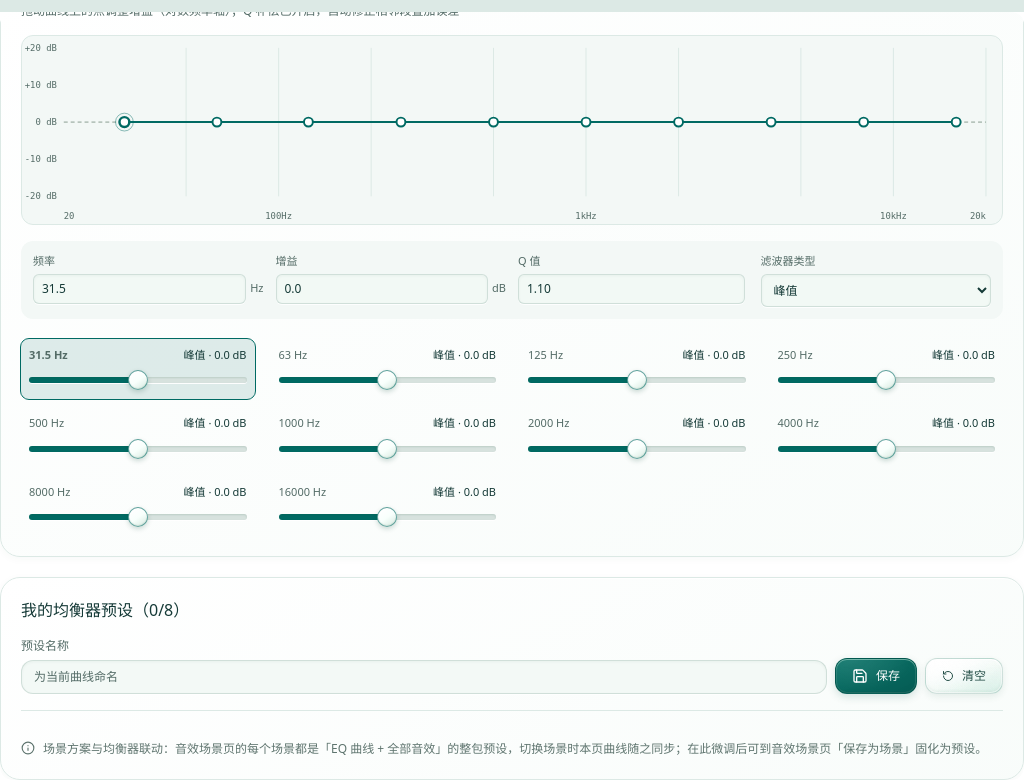
Scenario: HSE 均衡器编辑 › 陷波类型禁用无效增益控件，清空后恢复平直峰值段
(page scrolled)
Step 1. Select "陷波" in the dropdown labelled "滤波器类型" → (876, 290), box [760, 274, 991, 306]
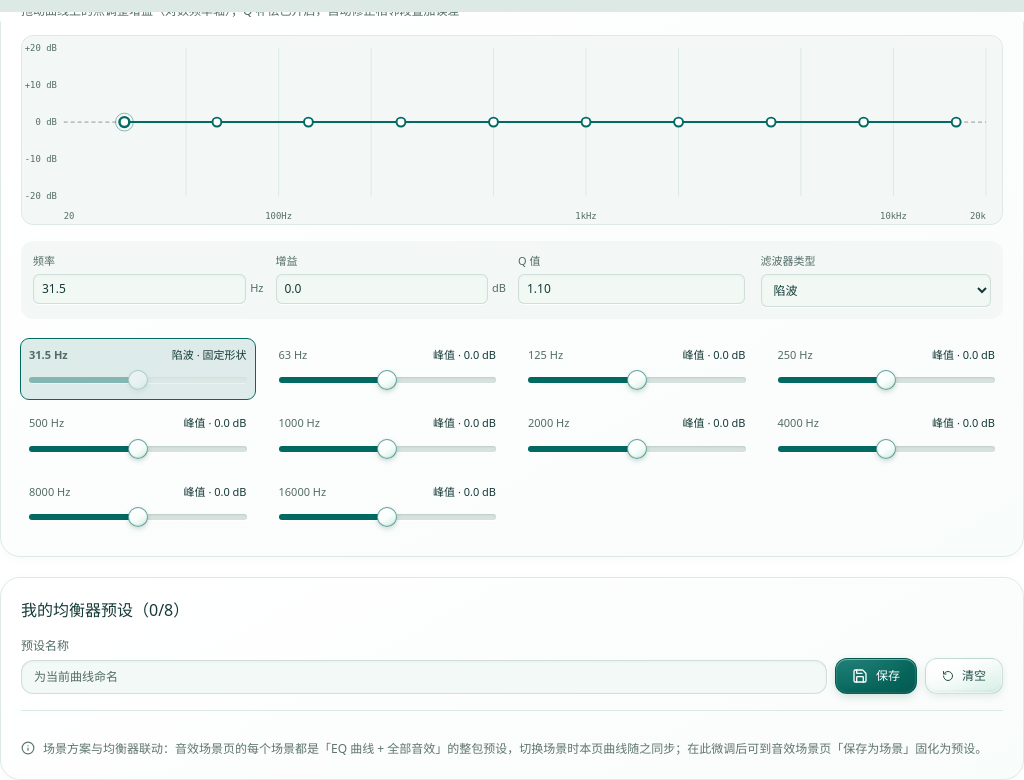
expect the number field labelled "增益 dB" is disabled: met, box [276, 274, 488, 304]
expect the slider named "31.5 Hz 增益" is disabled: met, box [29, 377, 246, 383]
Step 2. Click the button "清空" → click(964, 676), box [925, 658, 1003, 694]
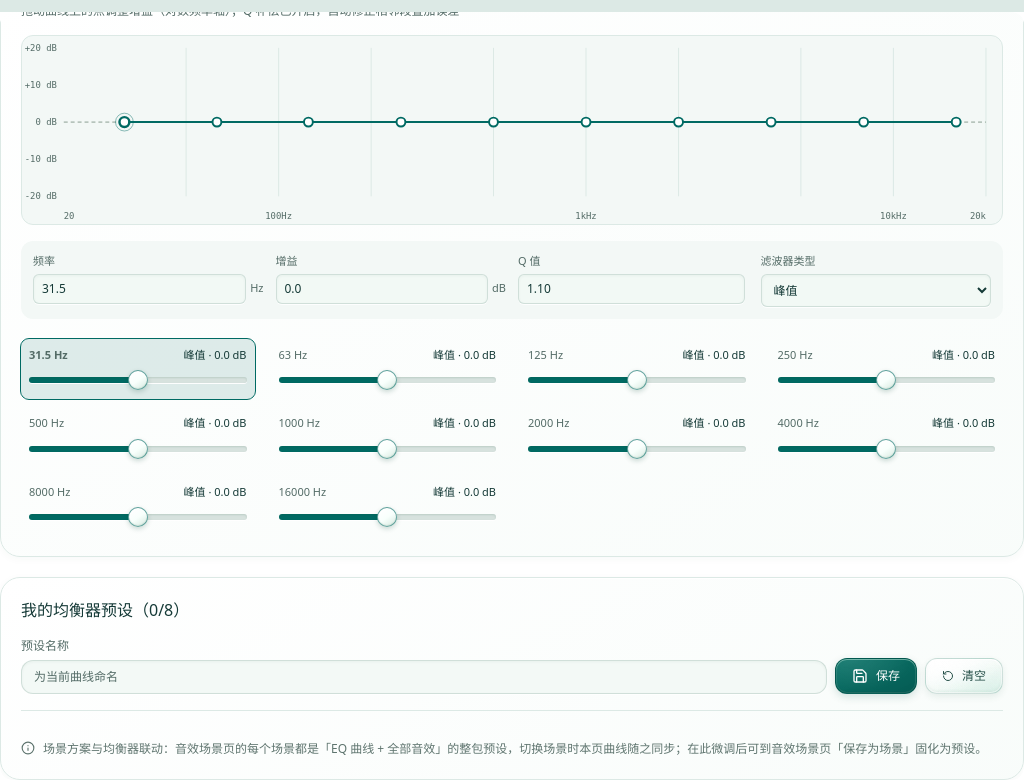
expect the slider named "31.5 Hz 增益" is enabled: met, box [29, 377, 246, 383]
